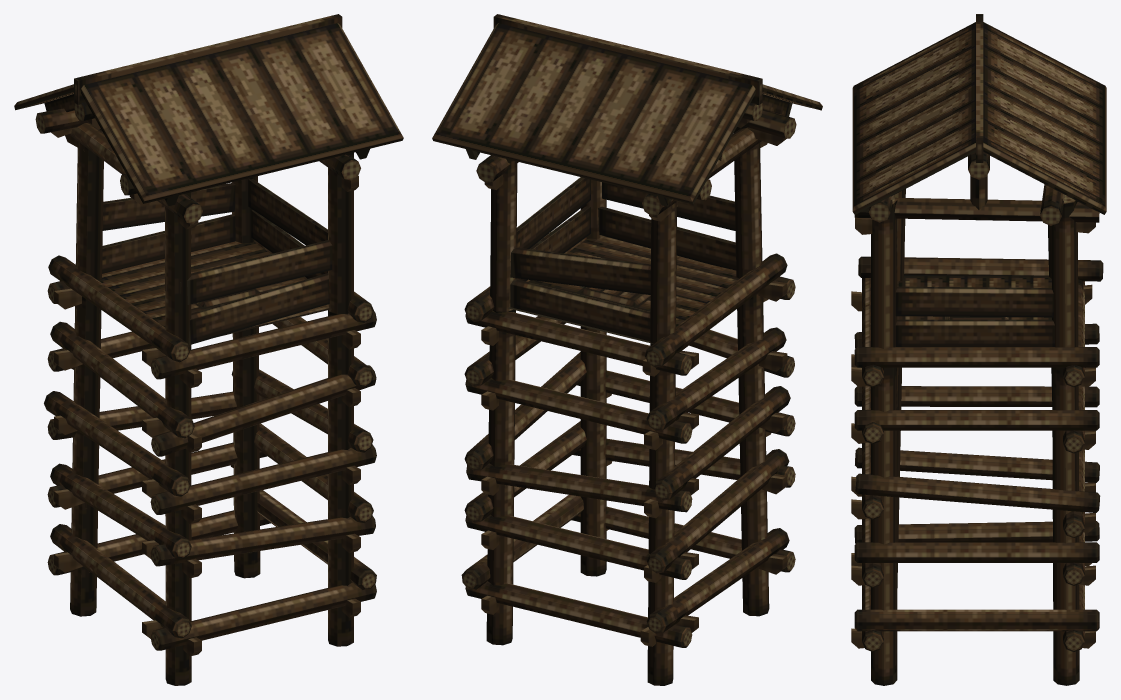
File: EnvObjMD_WatchTower_A.FBX
The picture shows the model from 3 angles, left to right: view 1: azimuth 30°, elevation 25°; view 2: azimuth 150°, elevation 25°; view 3: azimuth 270°, elevation 25°; orthographic projection. The views are drawn at different scales.
Visible parts, largest first — view 1: EnvObjMD_WatchTower_A; view 2: EnvObjMD_WatchTower_A; view 3: EnvObjMD_WatchTower_A.
Part boxes in pixels (left/top/right/bottom): EnvObjMD_WatchTower_A: left=14, top=14, right=403, bottom=685; EnvObjMD_WatchTower_A: left=432, top=14, right=822, bottom=685; EnvObjMD_WatchTower_A: left=851, top=14, right=1106, bottom=685.
Size of the model in its own units: 408 by 852 by 350.
